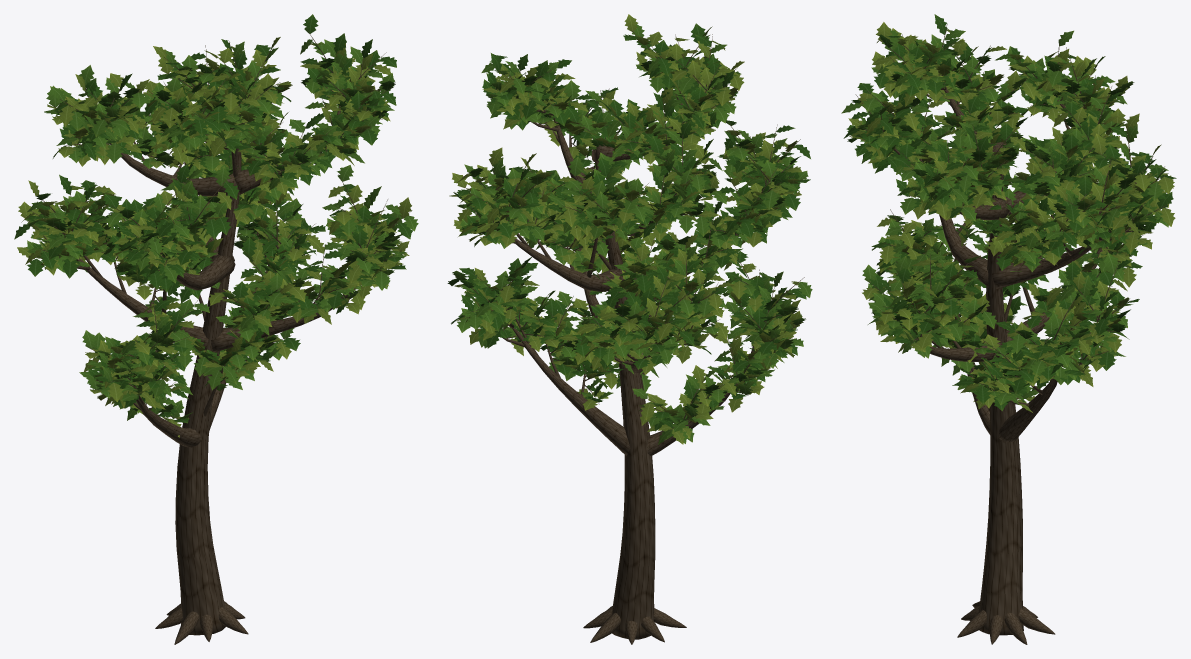
Rendered from frontier_sunmeadow_oak_hedgerow_lod0.glb.
The picture shows the model from 3 angles, left to right: view 1: azimuth 30°, elevation 25°; view 2: azimuth 150°, elevation 25°; view 3: azimuth 270°, elevation 25°; orthographic projection. The views are drawn at different scales.
Parts seen in each view (by area): view 1: frontier_sunmeadow_oak_hedgerow_LOD0; view 2: frontier_sunmeadow_oak_hedgerow_LOD0; view 3: frontier_sunmeadow_oak_hedgerow_LOD0.
Boxes of the visible parts, x1,y1,x2,y2 form: frontier_sunmeadow_oak_hedgerow_LOD0: (14, 14, 418, 644); frontier_sunmeadow_oak_hedgerow_LOD0: (447, 14, 812, 644); frontier_sunmeadow_oak_hedgerow_LOD0: (841, 14, 1176, 644).
Size of the model in its own units: 6.92 by 12.85 by 6.44.
2 materials, 2 textured.
